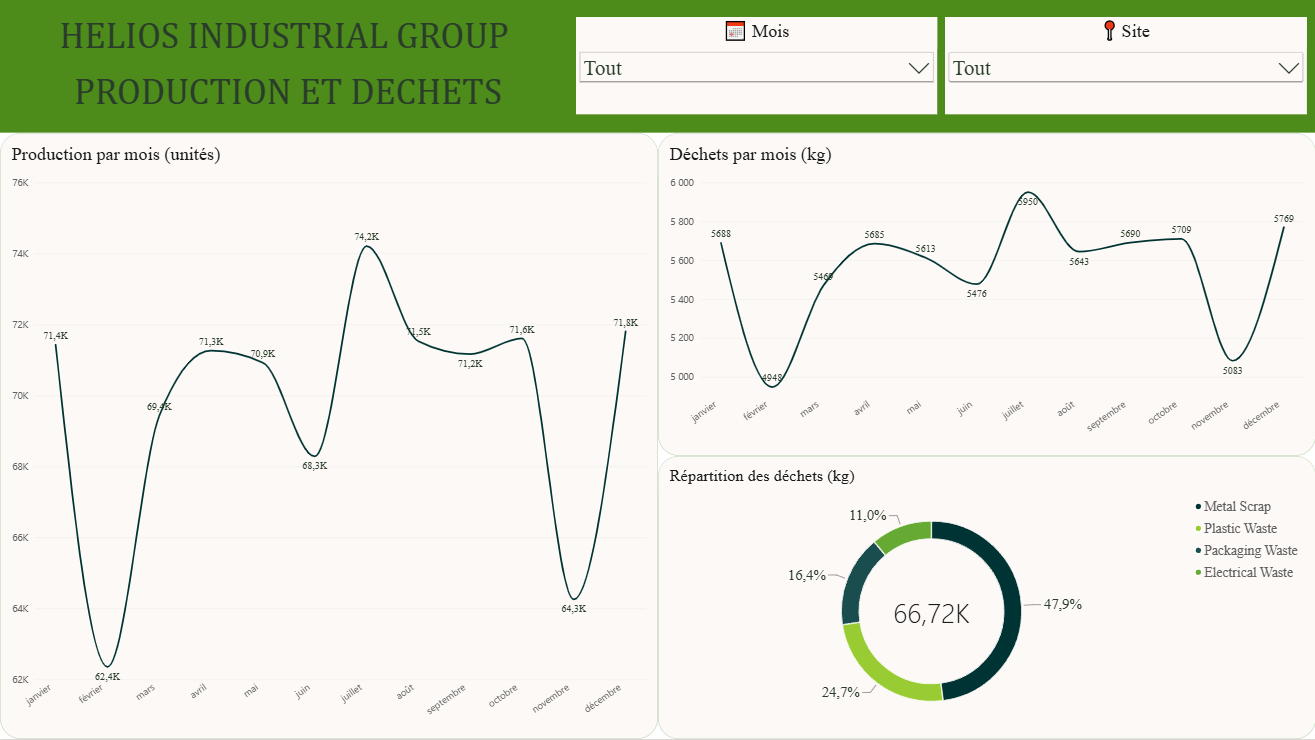

The dashboard page shown, as its layout file describes it:
{"tool":"powerbi","page":{"name":"PRODUCTION & DÉCHETS","canvas":[1920,1080],"ordinal":2},"visuals":[{"type":"textbox","box":[0,0,1920,195],"z":0},{"type":"textbox","box":[0,26.3,840.4,153.2],"z":1000},{"type":"lineChart","title":"Production par mois (unités)","fields":{"Category":["dim_date.Mois"],"Y":["Sum(mart_production.quantity_produced)"]},"box":[0,195.5,960,884.1],"z":4000},{"type":"lineChart","title":"Déchets par mois (kg)","fields":{"Category":["dim_date.Mois"],"Y":["Sum(mart_waste.waste_quantity_kg)"]},"box":[960,195.5,960,471.2],"z":5000},{"type":"donutChart","title":"Répartition des déchets (kg)","fields":{"Category":["mart_waste.waste_type"],"Y":["Sum(mart_waste.waste_quantity_kg)"]},"box":[960,667,960,413],"z":6000},{"type":"slicer","title":"📅 Mois","fields":{"Values":["dim_date.Mois"]},"box":[840,26.7,526.7,141.7],"z":6001},{"type":"slicer","title":"📍 Site","fields":{"Values":["site.site_name"]},"box":[1378.3,26.7,528.3,141.7],"z":6002}]}

Visuals, with their boxes in screenshot pixels (x1, y1, x2, y2), scaled from the page's 1920x1080 canvas onto the 1315x740 screenshot:
textbox: (x1=0, y1=0, x2=1314, y2=134)
textbox: (x1=0, y1=18, x2=576, y2=123)
"Production par mois (unités)" lineChart: (x1=0, y1=134, x2=658, y2=739)
"Déchets par mois (kg)" lineChart: (x1=658, y1=134, x2=1314, y2=457)
"Répartition des déchets (kg)" donutChart: (x1=658, y1=457, x2=1314, y2=739)
"📅 Mois" slicer: (x1=575, y1=18, x2=936, y2=115)
"📍 Site" slicer: (x1=944, y1=18, x2=1306, y2=115)
